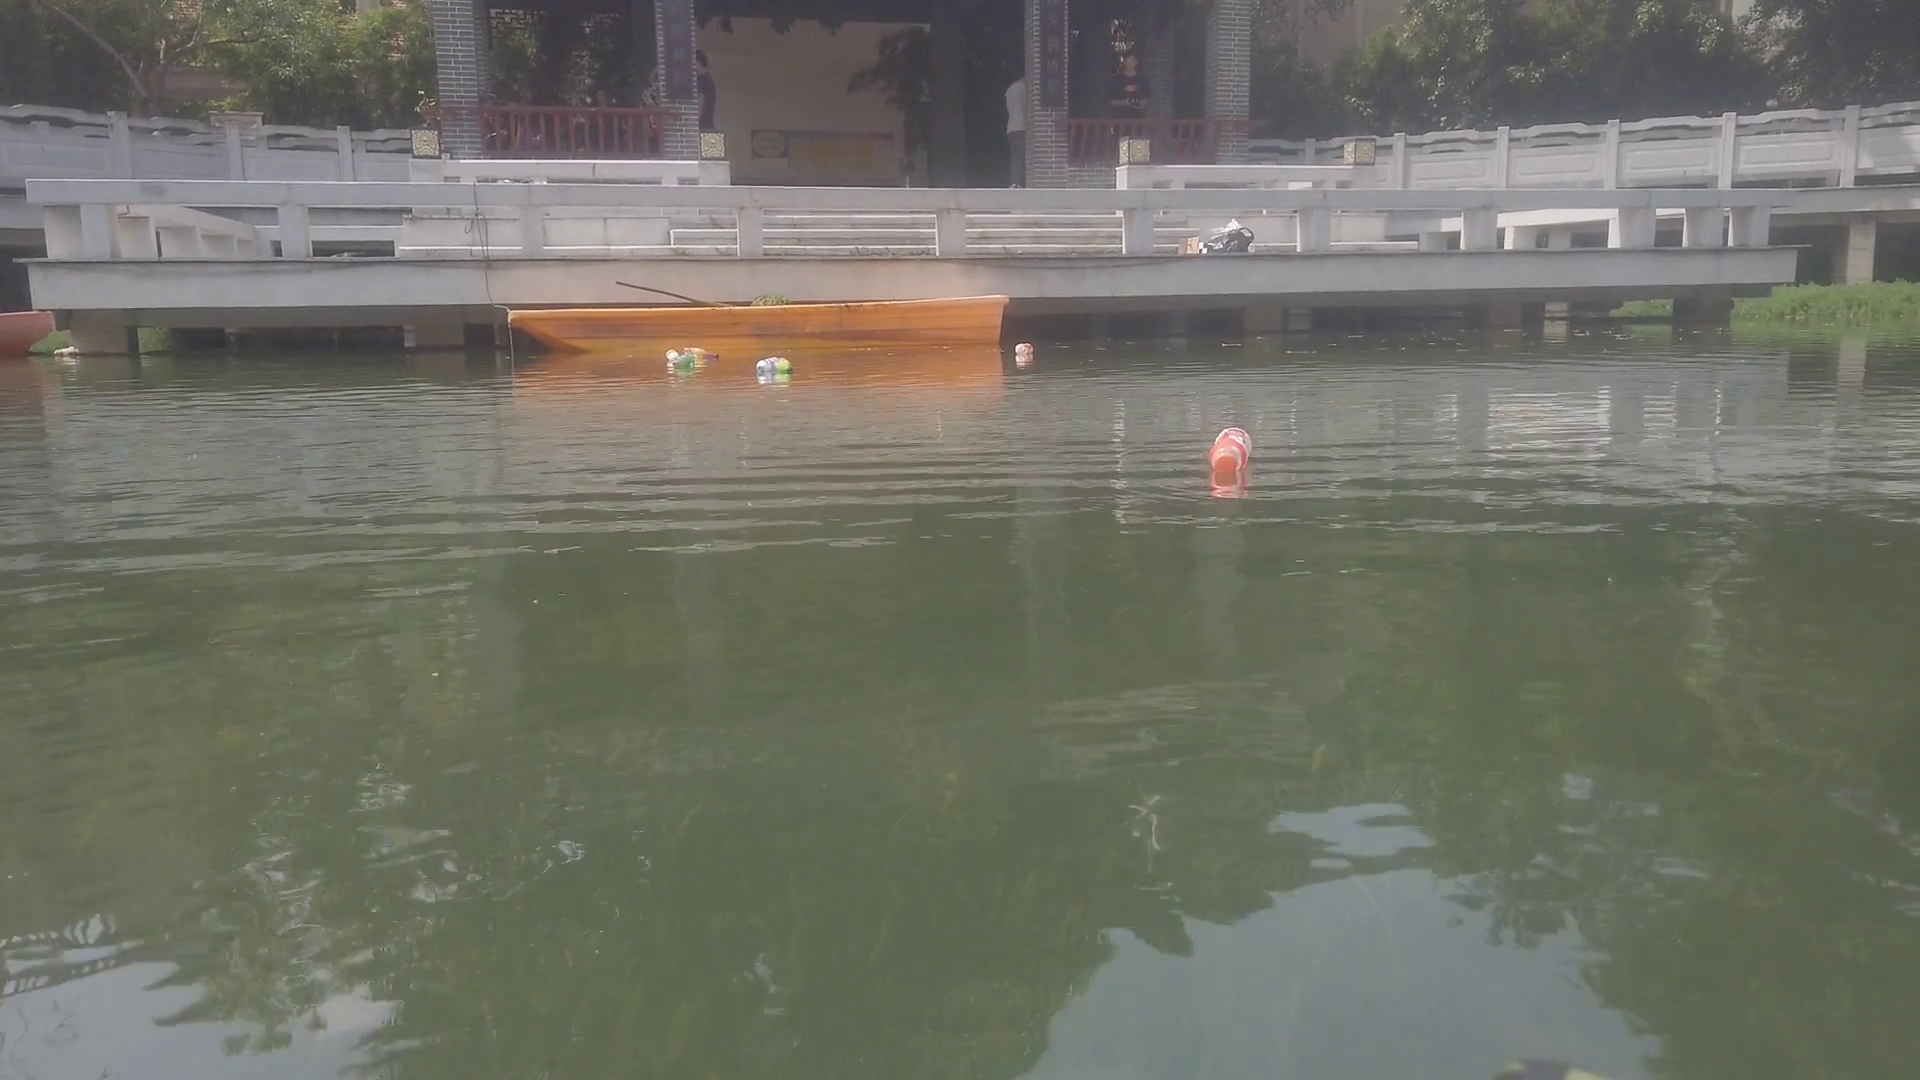bottle: (1209, 425, 1255, 475), (678, 345, 724, 361), (771, 360, 796, 378), (673, 357, 696, 375), (753, 357, 773, 375), (1013, 340, 1033, 356), (669, 351, 679, 365)
